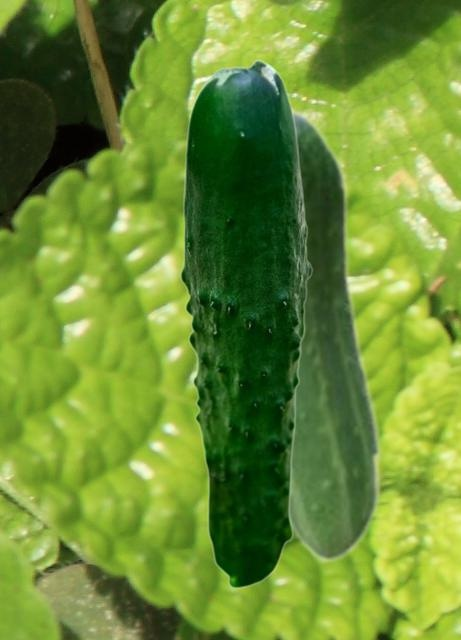cucumber: (179, 59, 312, 588), (291, 104, 382, 562)
